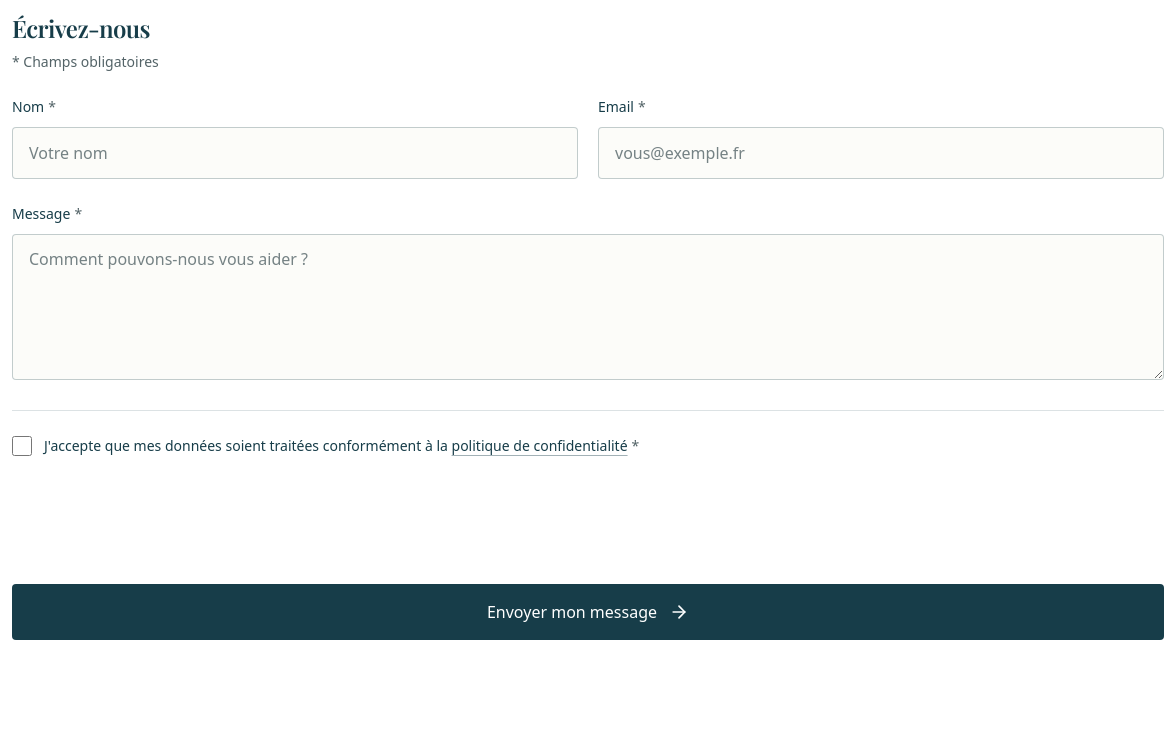
Test case: localized form submissions › resets the contact Turnstile token after an API error and requires a new token before retry
Later steps or results of the test are not shown.
Type "Jane Doe" into the field labelled "Nom*" at [295, 153], box [12, 127, 578, 179]
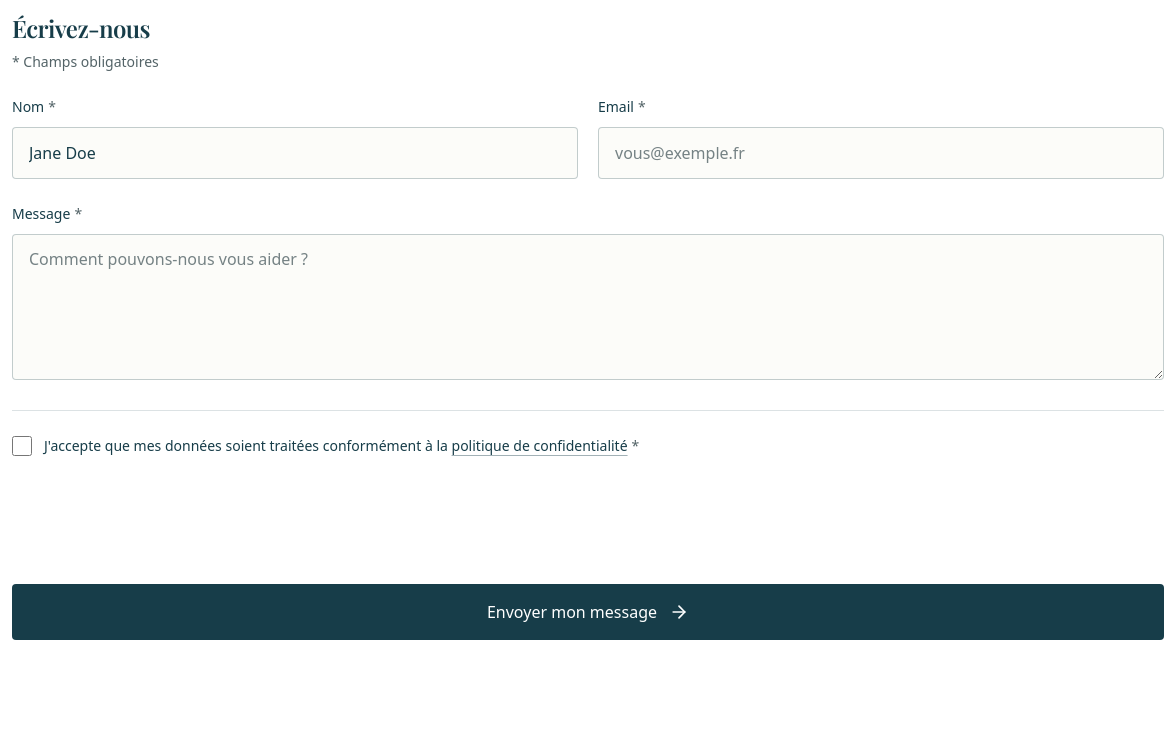
Type "jane@example.com" into the field labelled "Email*" at [881, 153], box [598, 127, 1164, 179]
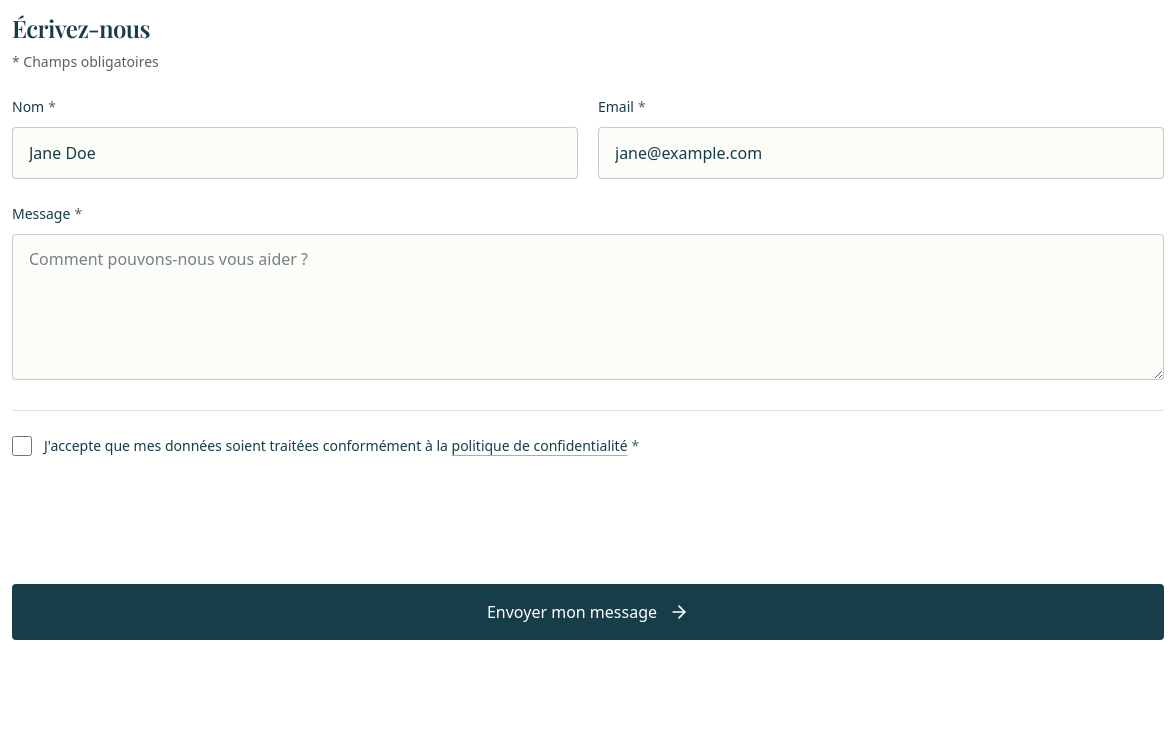
Type "Bonjour" into the text box labelled "Message*" at [588, 306], box [12, 234, 1164, 380]
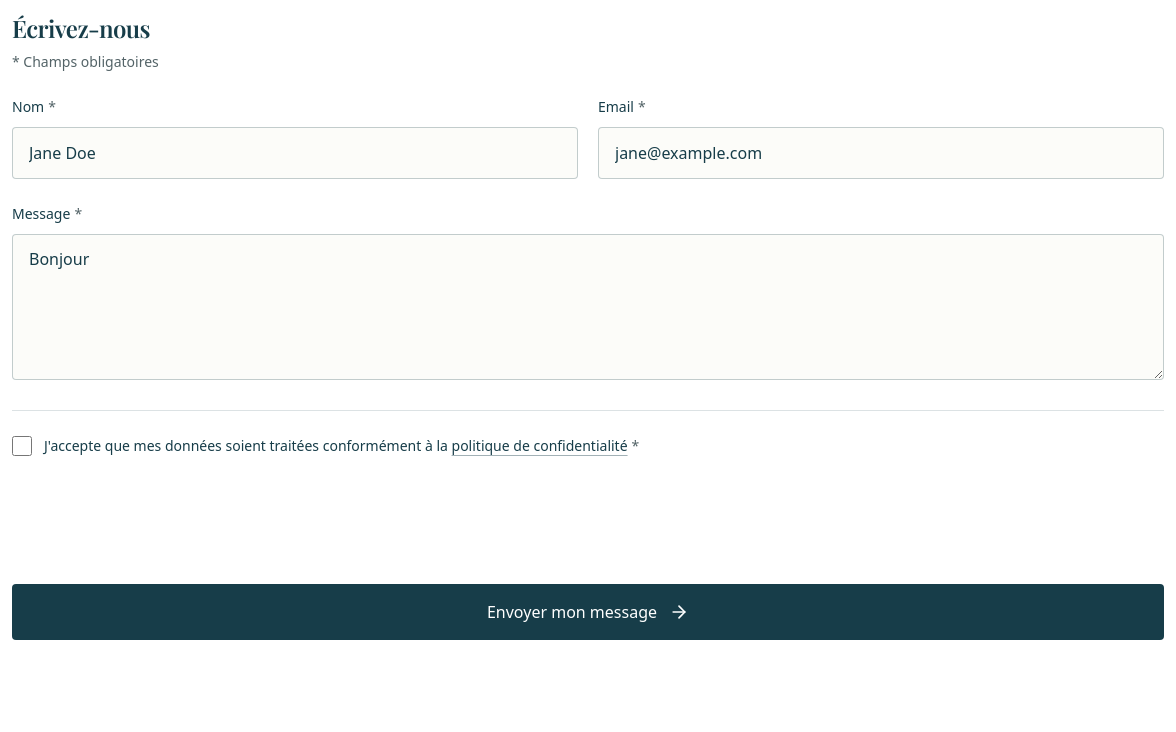
Click the checkbox at [22, 446], box [12, 436, 32, 456]
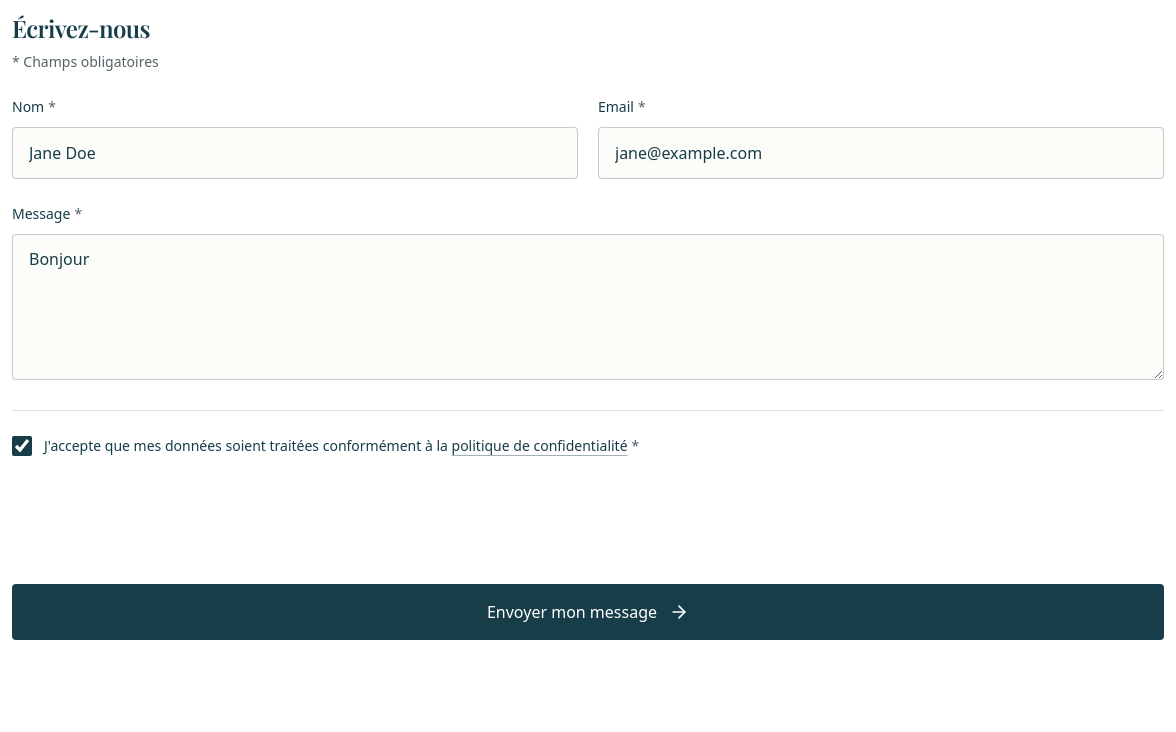
Click the button "Envoyer mon message" at [588, 612], box [12, 584, 1164, 640]
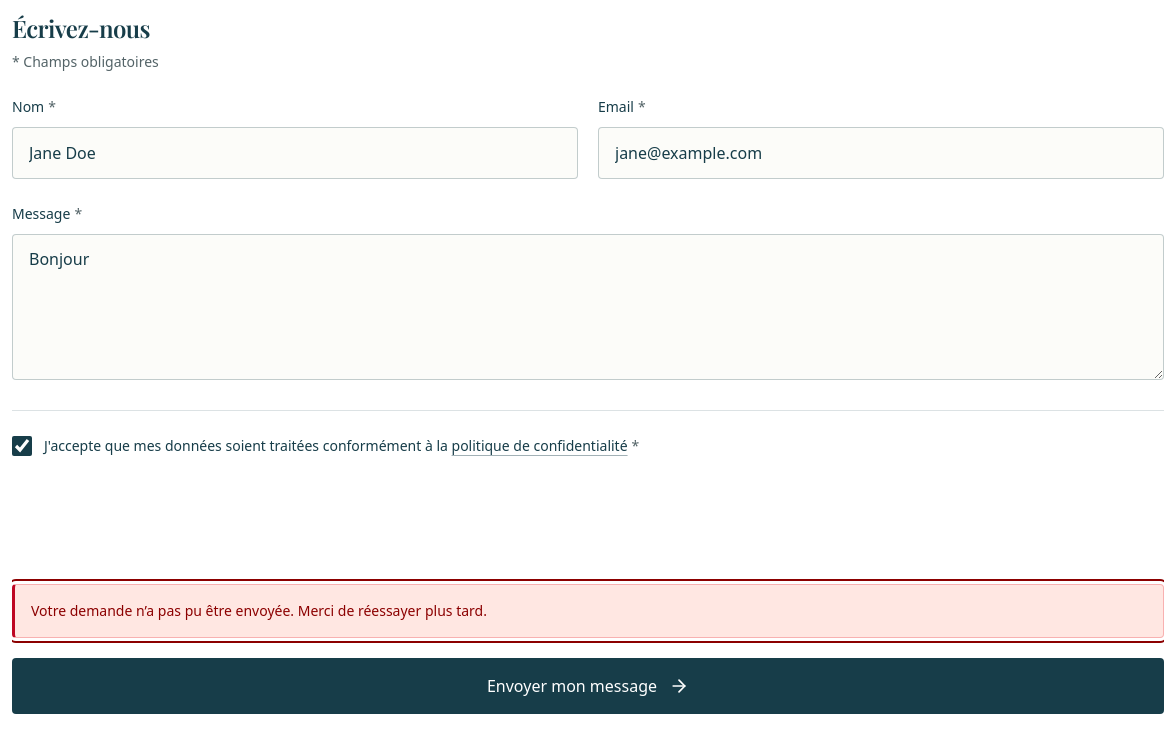
Check: the message "Votre demande n’a pas pu être envoyée. Merci de réessayer plus tard." is shown, box [12, 584, 1164, 638]
